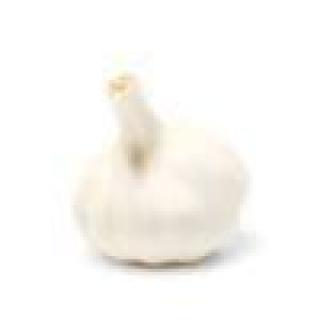Bawang Putih: (62, 59, 270, 270)
